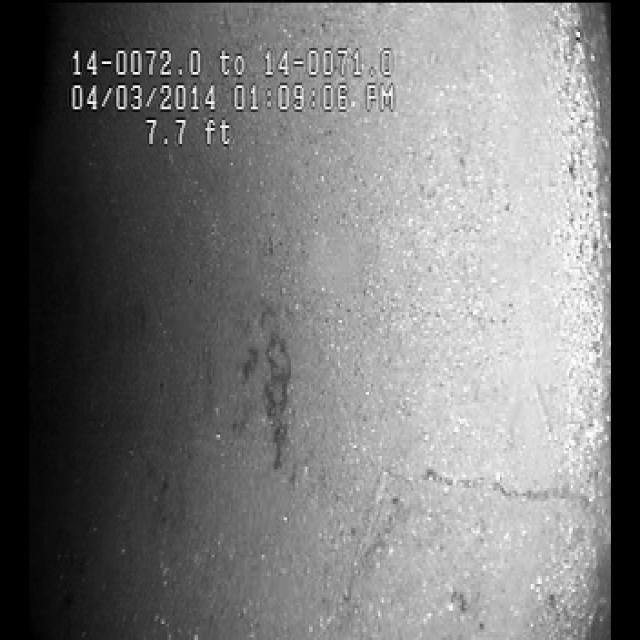Crack: (407, 427, 576, 538)
